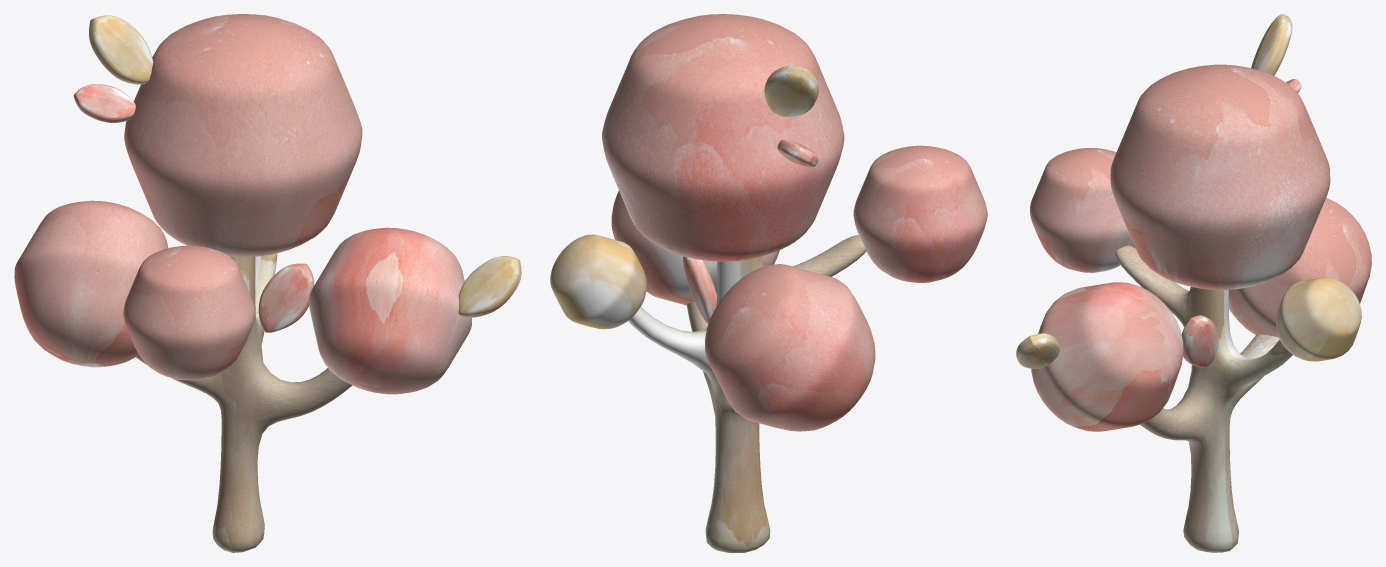
Rendered from tree_red.fbx.
The picture shows the model from 3 angles, left to right: view 1: azimuth 30°, elevation 25°; view 2: azimuth 150°, elevation 25°; view 3: azimuth 270°, elevation 25°; orthographic projection. The views are drawn at different scales.
Visible parts, largest first — view 1: Sphere063, Sphere066, Sphere065, Sphere062, Box161, Box162, Box165, Box164, Box163; view 2: Sphere063, Sphere065, Sphere062, Box161, Sphere064, Sphere066, Box162, Box165, Box163; view 3: Sphere063, Sphere066, Box161, Sphere062, Sphere065, Sphere064, Box165, Box162, Box164.
Part boxes in pixels (left/top/right/bottom): Sphere063: left=124, top=14, right=362, bottom=256; Sphere066: left=309, top=227, right=471, bottom=394; Sphere065: left=14, top=200, right=168, bottom=367; Sphere062: left=123, top=245, right=254, bottom=380; Box161: left=136, top=253, right=352, bottom=552; Box162: left=89, top=15, right=153, bottom=84; Box165: left=258, top=263, right=314, bottom=332; Box164: left=458, top=256, right=521, bottom=317; Box163: left=73, top=84, right=135, bottom=122; Sphere063: left=602, top=14, right=844, bottom=261; Sphere065: left=705, top=264, right=875, bottom=431; Sphere062: left=853, top=145, right=987, bottom=282; Box161: left=628, top=235, right=866, bottom=552; Sphere064: left=550, top=234, right=646, bottom=329; Sphere066: left=611, top=191, right=779, bottom=305; Box162: left=764, top=65, right=818, bottom=116; Box165: left=683, top=256, right=717, bottom=323; Box163: left=777, top=139, right=818, bottom=167; Sphere063: left=1110, top=64, right=1330, bottom=289; Sphere066: left=1031, top=282, right=1183, bottom=431; Box161: left=1115, top=245, right=1292, bottom=552; Sphere062: left=1030, top=148, right=1134, bottom=272; Sphere065: left=1229, top=198, right=1371, bottom=337; Sphere064: left=1276, top=277, right=1361, bottom=361; Box165: left=1181, top=315, right=1218, bottom=367; Box162: left=1251, top=14, right=1292, bottom=75; Box164: left=1016, top=333, right=1059, bottom=368.
Size of the model in its own units: 4.83 by 6.81 by 4.51.
Materials: 10 (10 with a texture image).
